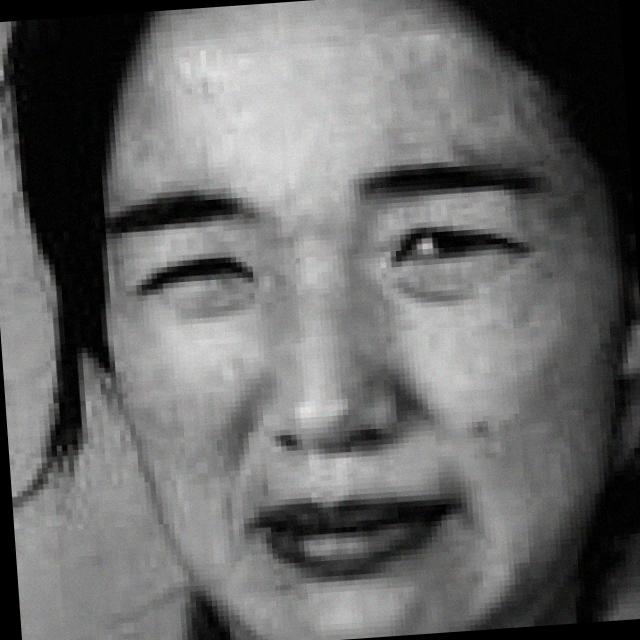disgust: (59, 6, 557, 640)
